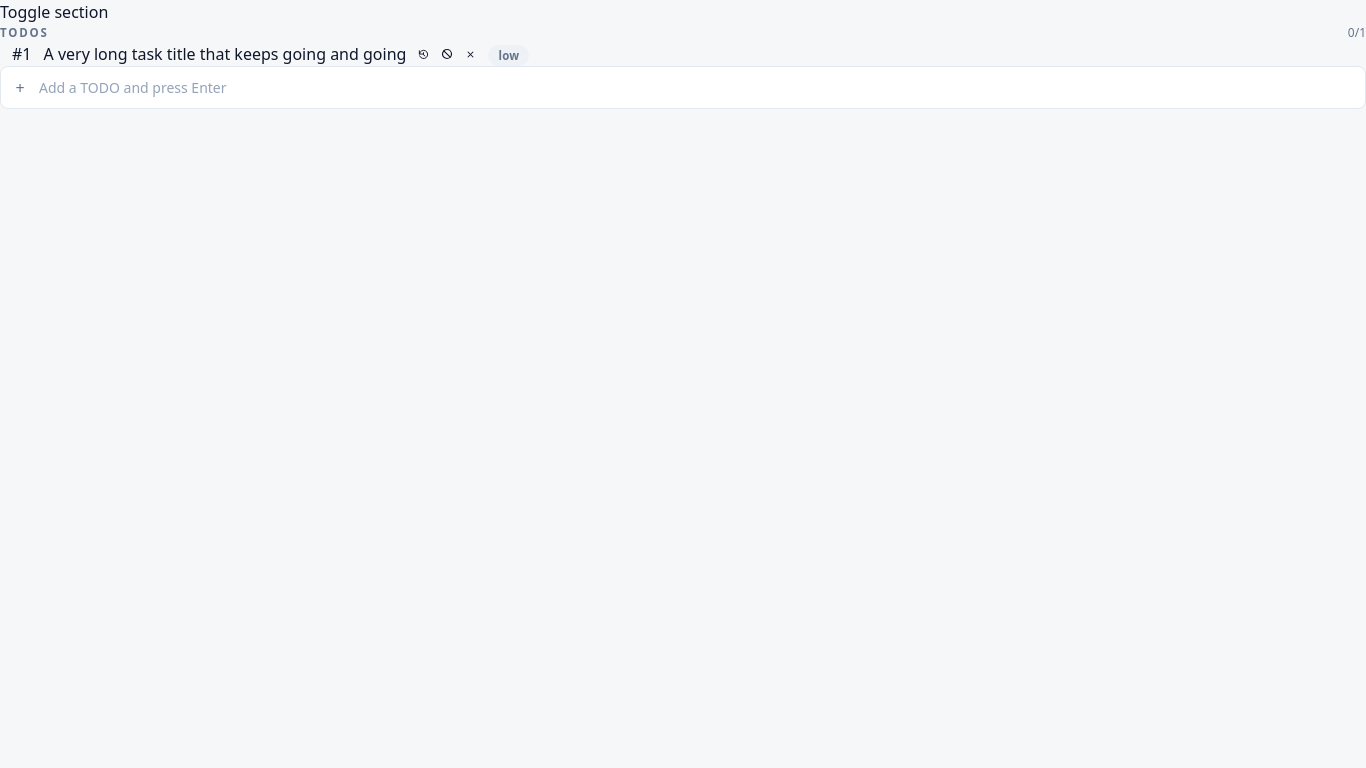
Scenario: TodosSection undoable delete › truncates a long title to about 30 characters in the toast
The image size is (1366, 768).
Click the button named "Remove from day: A very long task title that keeps going and": (471, 54) [465,48,476,60]
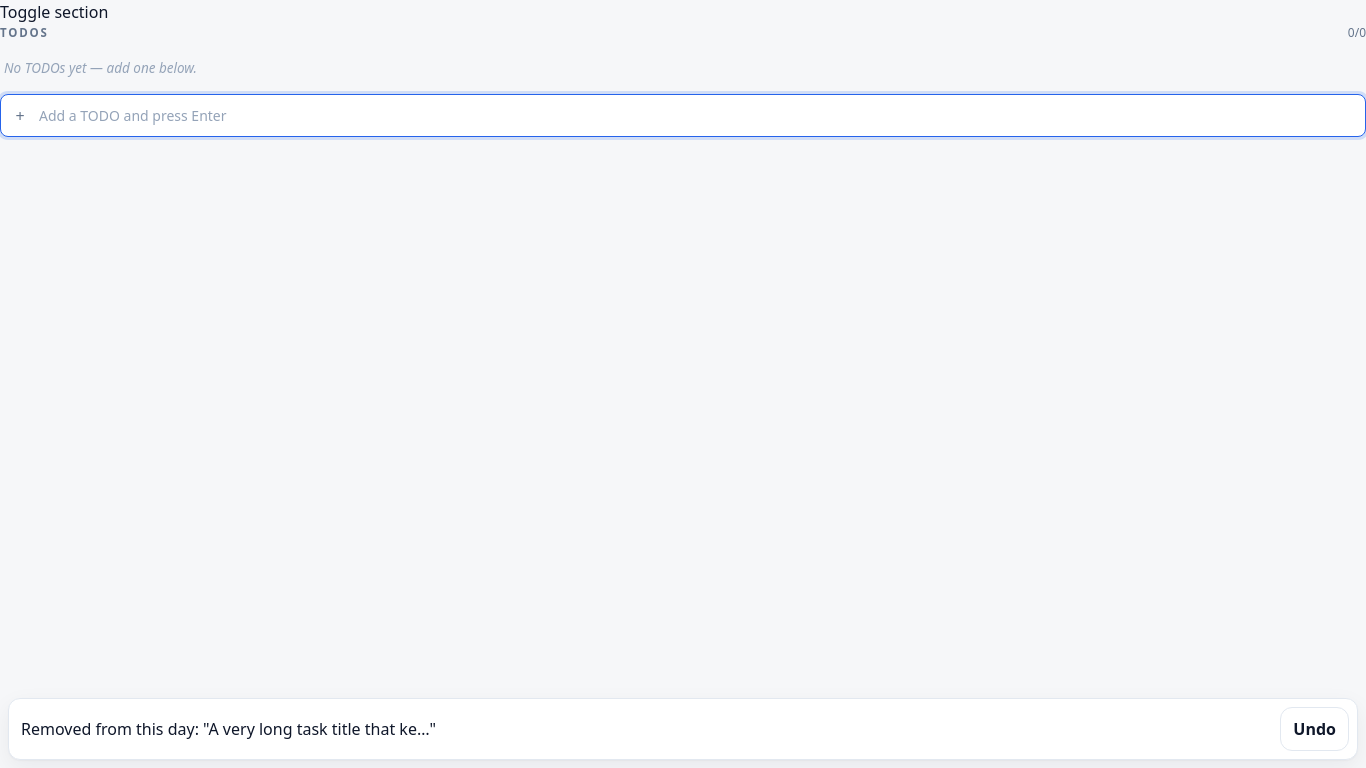
Expected: the message shows "Removed from this day: \"A very long task title that ke…\"", [21,718,436,740]
